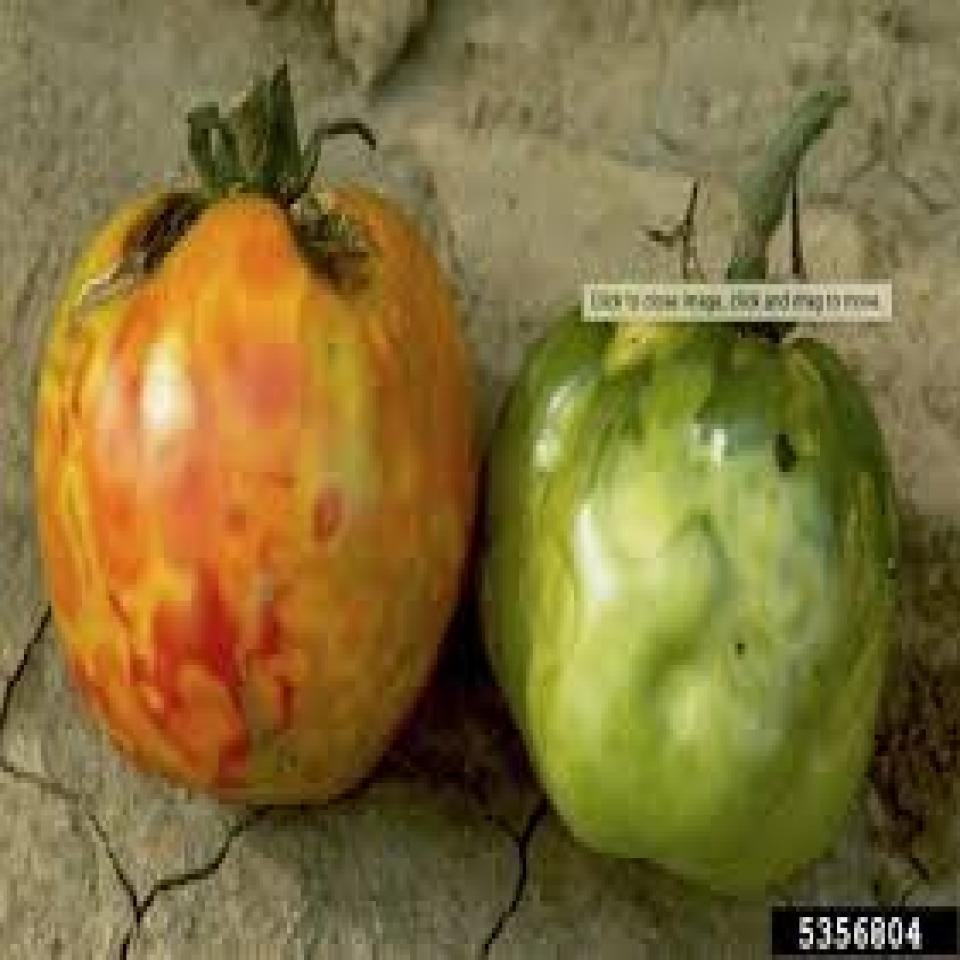Spotted wilt Virus: (35, 163, 476, 808), (485, 279, 901, 902)
